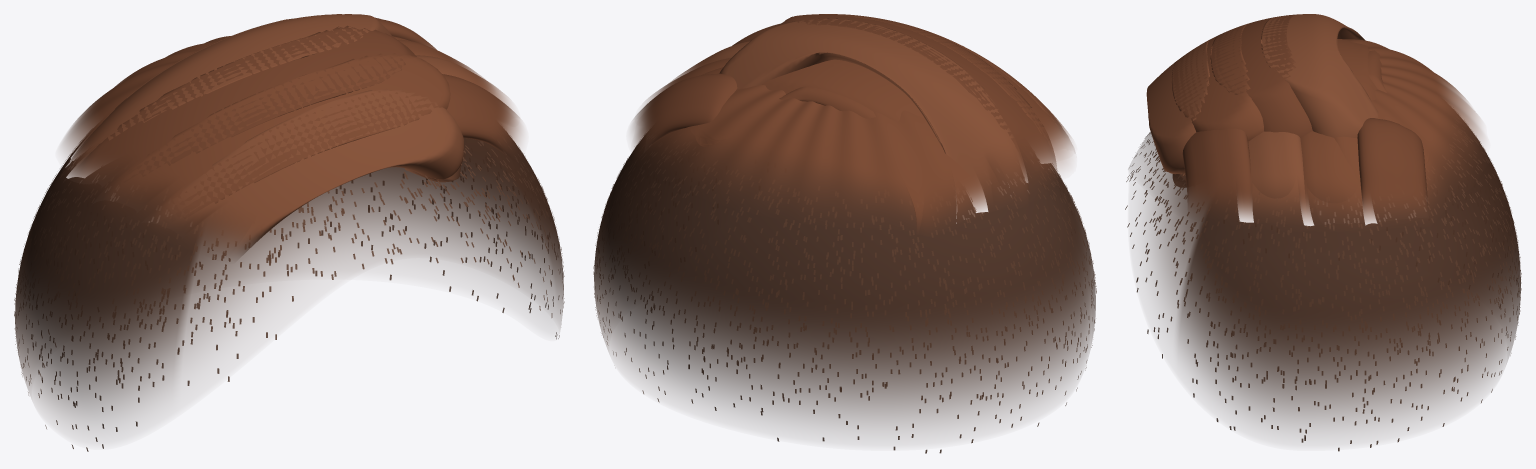
File: Masculine-taper-hair.glb
3 views of the same model, side by side, from view 1: azimuth 30°, elevation 25°; view 2: azimuth 150°, elevation 25°; view 3: azimuth 270°, elevation 25° (orthographic). The views are drawn at different scales.
Parts seen in each view (by area): view 1: 226 hair / Hair / neutral coverage235, 226 hair / Hair / sculpted 2.003 / blended tips214.001, 226 hair / Hair / sculpted 0.003 / blended tips214.001, 226 hair / Hair / sculpted 1.002 / blended tips214, 226 hair / Hair / cut grain235, 226 hair / Hair / sculpted 2.003 / blended tips214, 226 hair / Hair / sculpted 1.002 / blended tips214.002, 226 hair / Hair / blended back crown214, 226 hair / Hair / sculpted 2.003 / blended tips214.002, 226 hair / Hair / sculpted 0.003 / blended tips214.002, 226 hair / Hair / sculpted 1.002 / blended tips214.001; view 2: 226 hair / Hair / neutral coverage235, 226 hair / Hair / blended back crown214, 226 hair / Hair / sculpted 2.003 / blended tips214, 226 hair / Hair / cut grain235, 226 hair / Hair / sculpted 1.002 / blended tips214, 226 hair / Hair / sculpted 0.003 / blended tips214, 226 hair / Hair / sculpted 1.002 / blended tips214.001, 226 hair / Hair / sculpted 0.003 / blended tips214.001, 226 hair / Hair / sculpted 2.003 / blended tips214.001, 226 hair / Hair / sculpted 0.003 / blended tips214.002, 226 hair / Hair / sculpted 2.003 / blended tips214.002; view 3: 226 hair / Hair / neutral coverage235, 226 hair / Hair / blended back crown214, 226 hair / Hair / cut grain235, 226 hair / Hair / sculpted 2.003 / blended tips214, 226 hair / Hair / sculpted 1.002 / blended tips214.001, 226 hair / Hair / sculpted 1.002 / blended tips214, 226 hair / Hair / sculpted 1.002 / blended tips214.002, 226 hair / Hair / sculpted 0.003 / blended tips214.001, 226 hair / Hair / sculpted 2.003 / blended tips214.002, 226 hair / Hair / sculpted 2.003 / blended tips214.001, 226 hair / Hair / sculpted 0.003 / blended tips214.002, 226 hair / Hair / sculpted 0.003 / blended tips214.
Boxes of the visible parts, x1,y1,x2,y2 form: 226 hair / Hair / neutral coverage235: (15, 128, 563, 429); 226 hair / Hair / sculpted 2.003 / blended tips214.001: (145, 89, 465, 258); 226 hair / Hair / sculpted 0.003 / blended tips214.001: (96, 53, 450, 234); 226 hair / Hair / sculpted 1.002 / blended tips214: (67, 25, 416, 203); 226 hair / Hair / cut grain235: (14, 132, 564, 451); 226 hair / Hair / sculpted 2.003 / blended tips214: (61, 14, 391, 179); 226 hair / Hair / sculpted 1.002 / blended tips214.002: (442, 74, 522, 156); 226 hair / Hair / blended back crown214: (62, 36, 409, 160); 226 hair / Hair / sculpted 2.003 / blended tips214.002: (416, 55, 512, 109); 226 hair / Hair / sculpted 0.003 / blended tips214.002: (398, 39, 485, 79); 226 hair / Hair / sculpted 1.002 / blended tips214.001: (375, 17, 436, 49); 226 hair / Hair / neutral coverage235: (594, 133, 1095, 433); 226 hair / Hair / blended back crown214: (638, 67, 1001, 228); 226 hair / Hair / sculpted 2.003 / blended tips214: (719, 18, 1028, 211); 226 hair / Hair / cut grain235: (593, 140, 1096, 453); 226 hair / Hair / sculpted 1.002 / blended tips214: (779, 14, 1056, 190); 226 hair / Hair / sculpted 0.003 / blended tips214: (696, 59, 986, 230); 226 hair / Hair / sculpted 1.002 / blended tips214.001: (631, 73, 737, 149); 226 hair / Hair / sculpted 0.003 / blended tips214.001: (785, 14, 1074, 170); 226 hair / Hair / sculpted 2.003 / blended tips214.001: (919, 28, 1070, 142); 226 hair / Hair / sculpted 0.003 / blended tips214.002: (644, 58, 730, 105); 226 hair / Hair / sculpted 2.003 / blended tips214.002: (670, 41, 749, 82); 226 hair / Hair / neutral coverage235: (1130, 108, 1520, 434); 226 hair / Hair / blended back crown214: (1326, 39, 1483, 220); 226 hair / Hair / cut grain235: (1125, 117, 1521, 451); 226 hair / Hair / sculpted 2.003 / blended tips214: (1261, 14, 1378, 137); 226 hair / Hair / sculpted 1.002 / blended tips214.001: (1357, 118, 1428, 218); 226 hair / Hair / sculpted 1.002 / blended tips214: (1210, 14, 1312, 138); 226 hair / Hair / sculpted 1.002 / blended tips214.002: (1182, 128, 1252, 218); 226 hair / Hair / sculpted 0.003 / blended tips214.001: (1171, 23, 1263, 141); 226 hair / Hair / sculpted 2.003 / blended tips214.002: (1237, 131, 1311, 221); 226 hair / Hair / sculpted 2.003 / blended tips214.001: (1146, 40, 1209, 187); 226 hair / Hair / sculpted 0.003 / blended tips214.002: (1299, 131, 1374, 222); 226 hair / Hair / sculpted 0.003 / blended tips214: (1337, 39, 1386, 100).
Size of the model in its own units: 0.9686 by 0.6788 by 0.7716.
